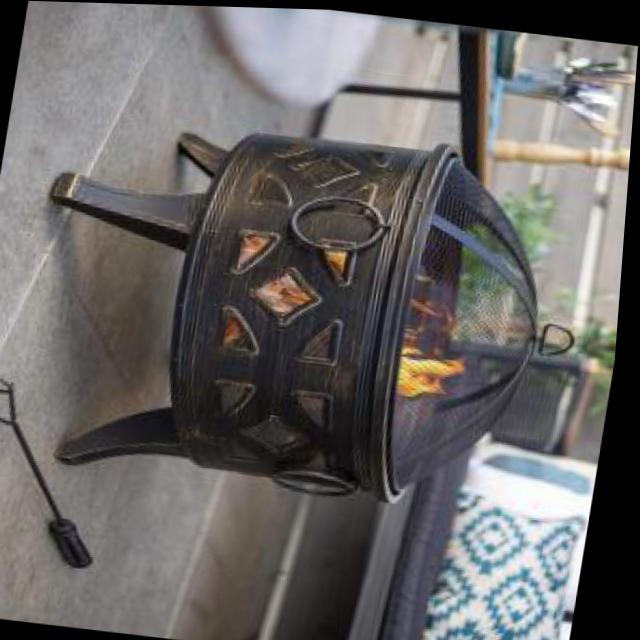Fire: (383, 336, 482, 407)
